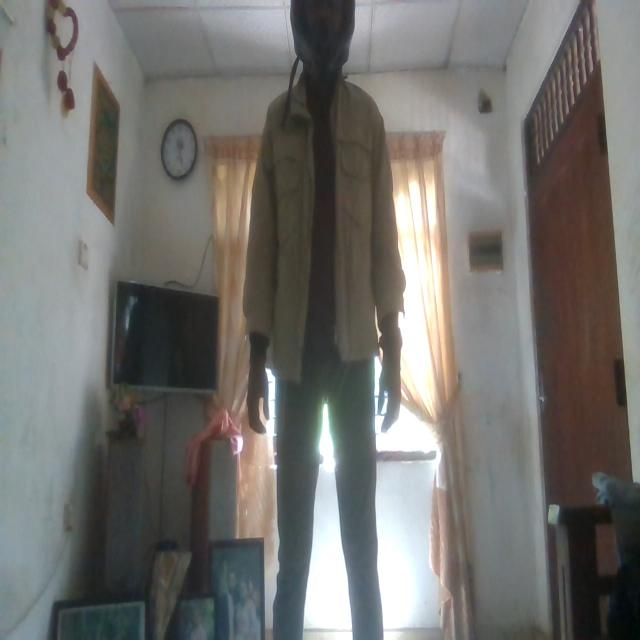Helmet_Wearer: (283, 0, 355, 83)
Jacket_Wearer: (246, 81, 404, 411)
Person: (246, 2, 408, 640)
